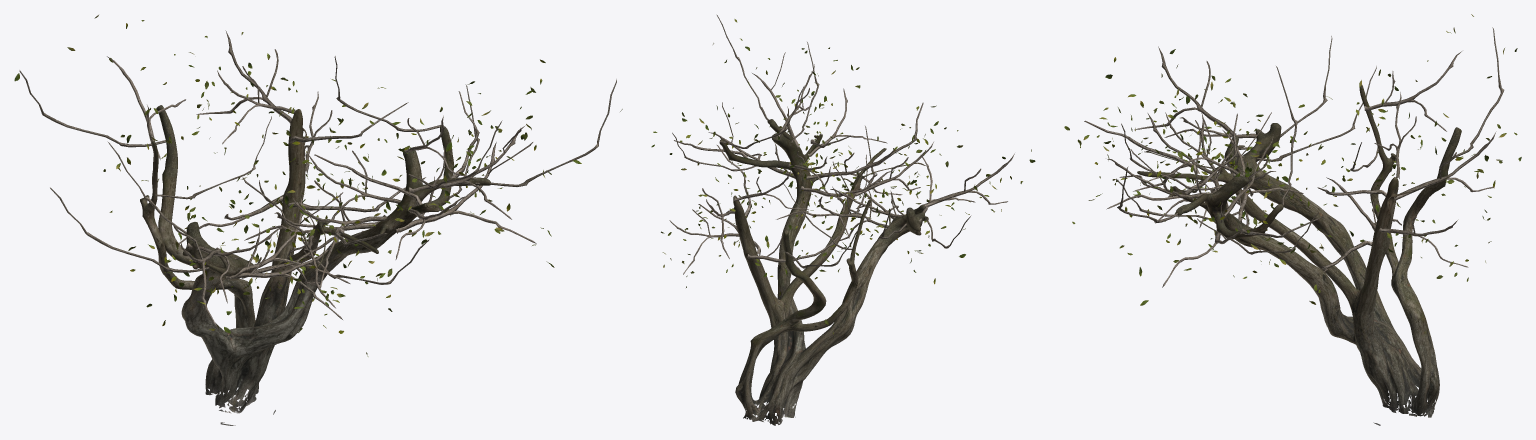
File: island_tree_02.gltf
3 views of the same model, side by side, from view 1: azimuth 30°, elevation 25°; view 2: azimuth 150°, elevation 25°; view 3: azimuth 270°, elevation 25° (orthographic). The views are drawn at different scales.
Parts seen in each view (by area): view 1: island_tree_02_LOD0; view 2: island_tree_02_LOD0; view 3: island_tree_02_LOD0.
Boxes of the visible parts, x1,y1,x2,y2 form: island_tree_02_LOD0: (14,15,622,425); island_tree_02_LOD0: (651,14,1035,425); island_tree_02_LOD0: (1064,14,1521,425).
Bounding box in the file's own units: 4.02 × 3.34 × 3.83.
Materials: 3 (3 with a texture image).
